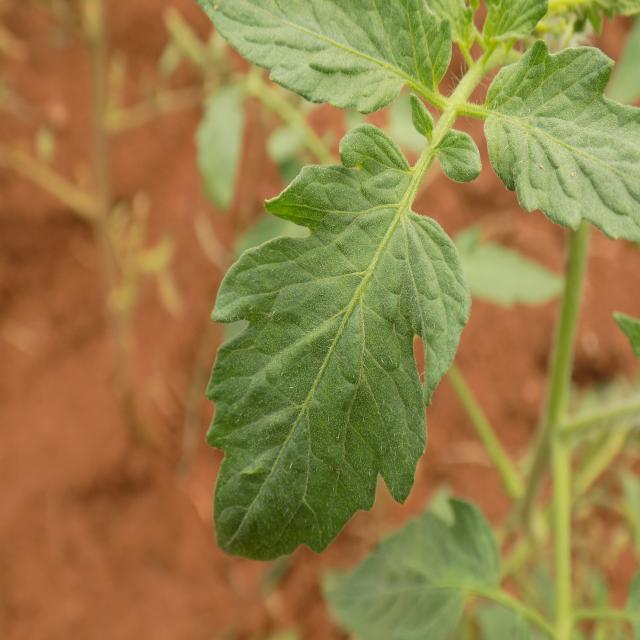tomato_healthy: (204, 121, 468, 561), (483, 46, 640, 238), (200, 0, 455, 113)
